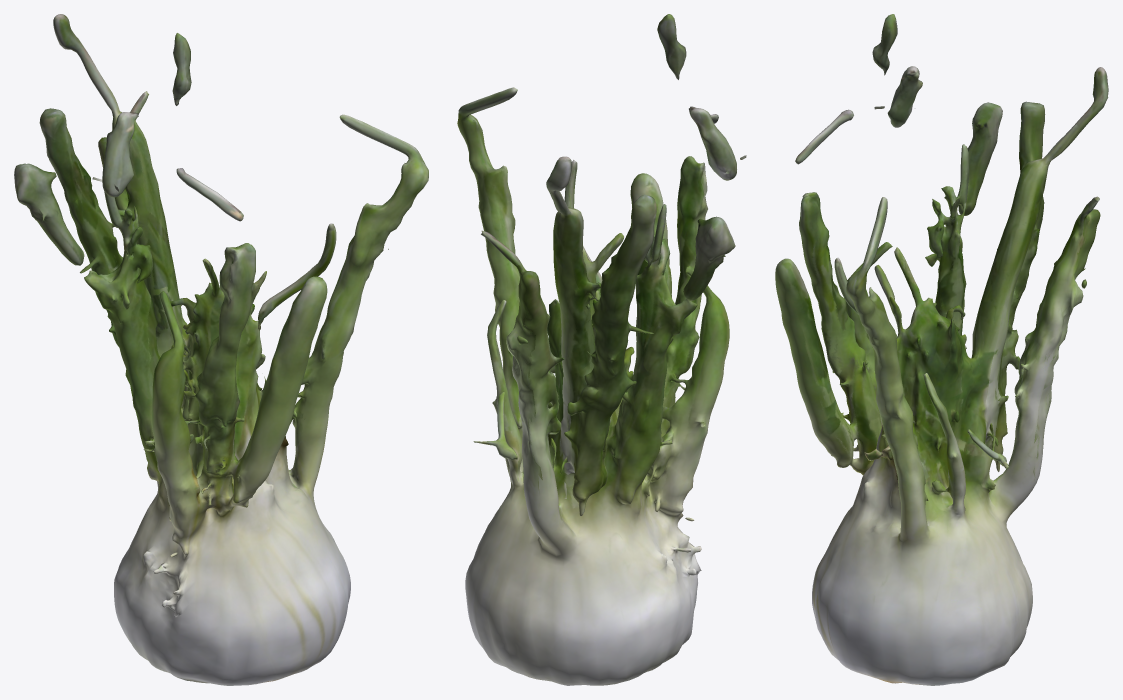
Rendered from Fennel_Bulb_on_Wooden_0923172915.glb.
3 renders of one model, left to right at view 1: azimuth 30°, elevation 25°; view 2: azimuth 150°, elevation 25°; view 3: azimuth 270°, elevation 25°, orthographic. The views are drawn at different scales.
Bounding box in the file's own units: 1.06 × 1.97 × 0.9487.
1 material, 1 textured.
